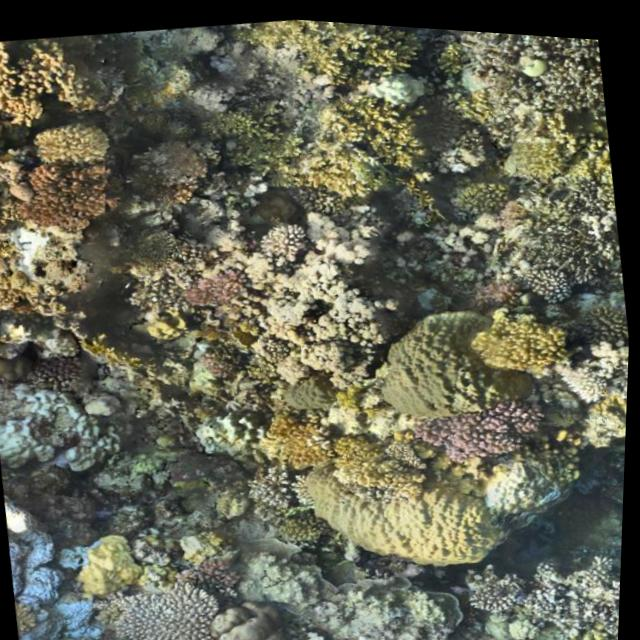Bleached Coral: (284, 440, 504, 580), (375, 301, 498, 440), (467, 542, 625, 640), (117, 576, 229, 640), (348, 59, 431, 119), (555, 341, 625, 409), (252, 452, 318, 524)
